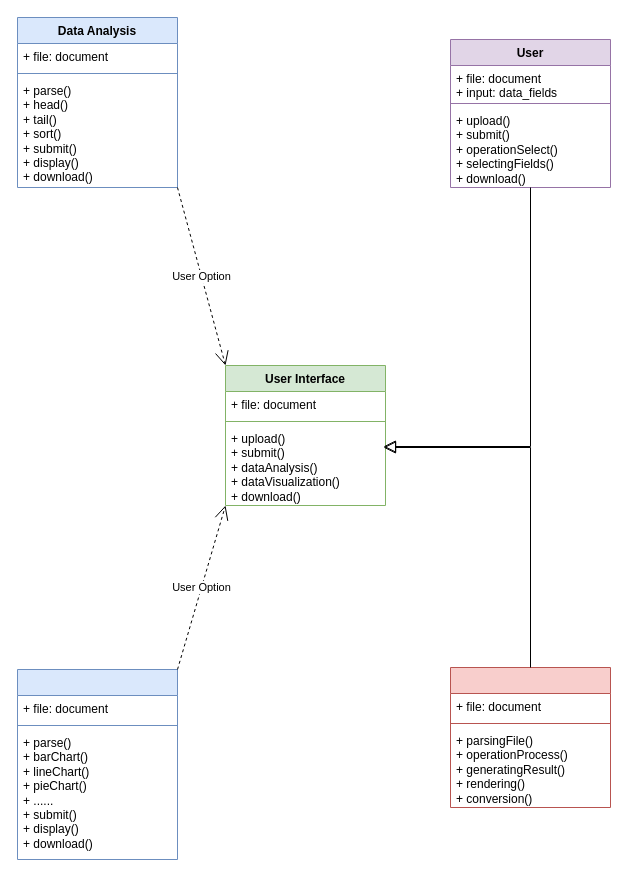
This 628x880 diagram has some shape labels left out. Each missing label, with the box of its shape:
Data Visualization: (16, 668, 178, 860)
System: (450, 666, 610, 808)
